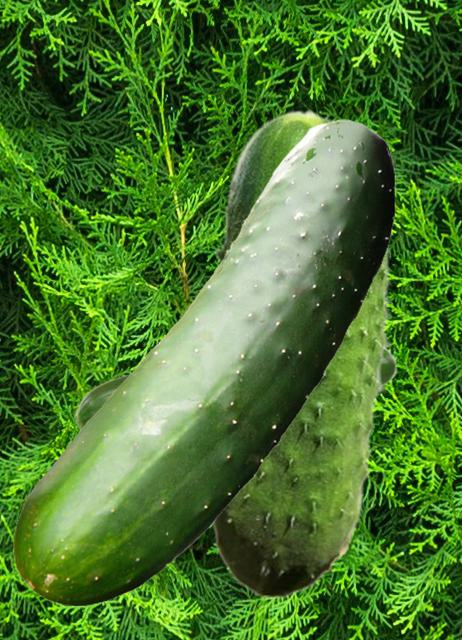cucumber: (13, 119, 394, 605), (210, 108, 392, 598), (75, 349, 396, 428)
